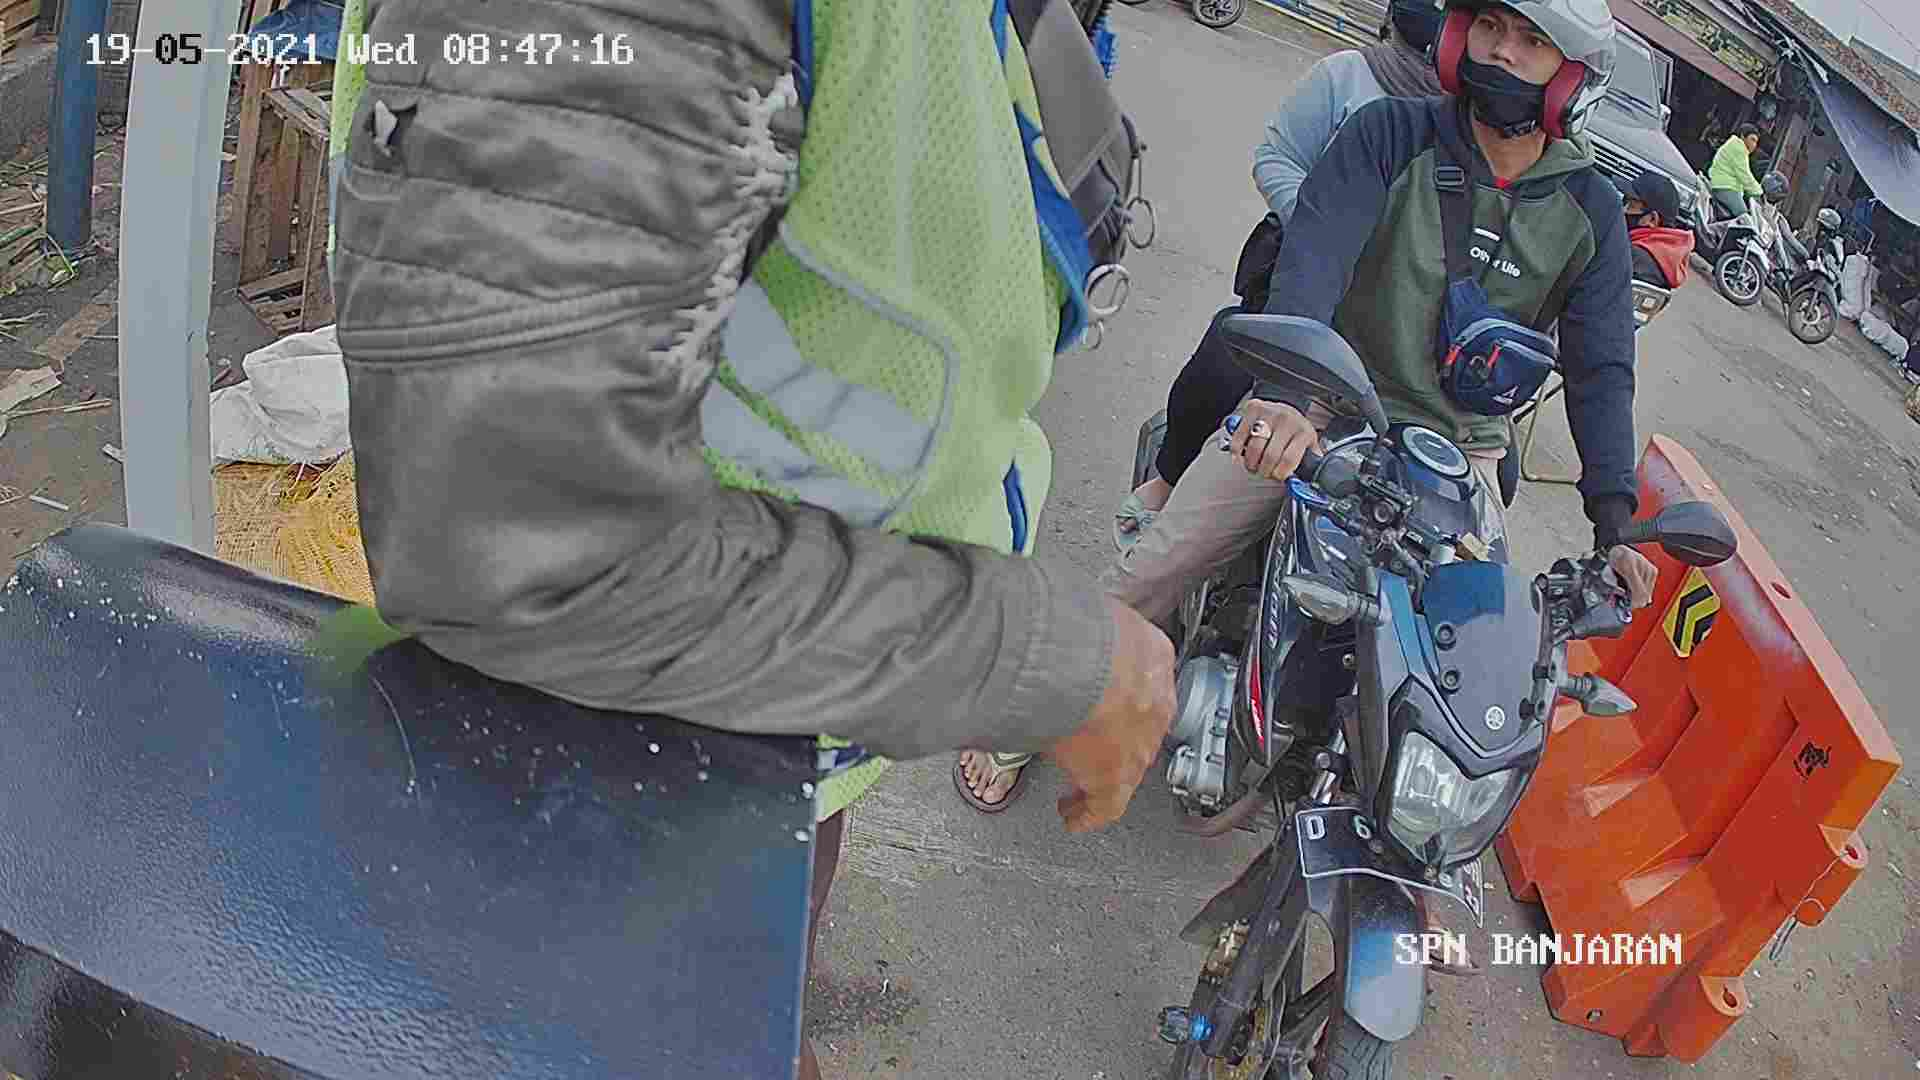motor: (1205, 390, 1610, 1080)
